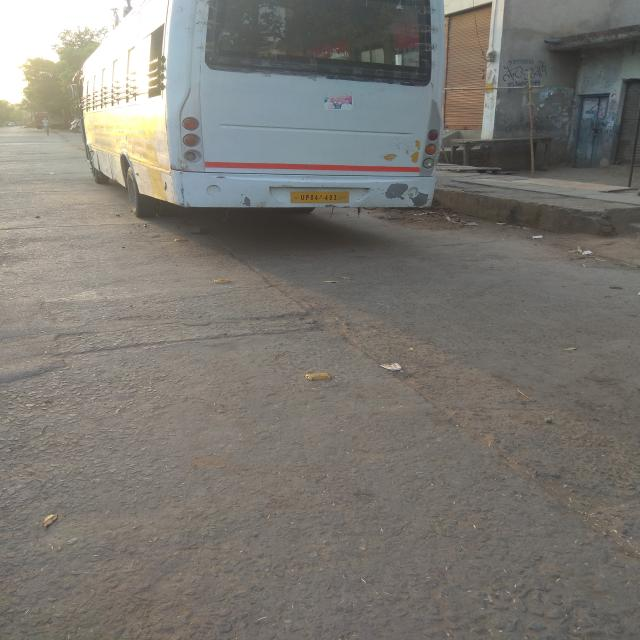Bus: (78, 0, 445, 218)
